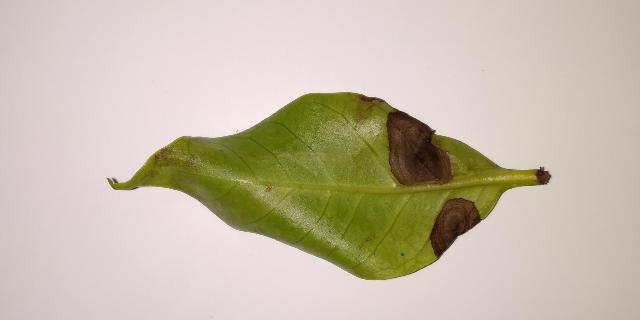rust: (358, 94, 453, 186), (430, 198, 484, 259)
